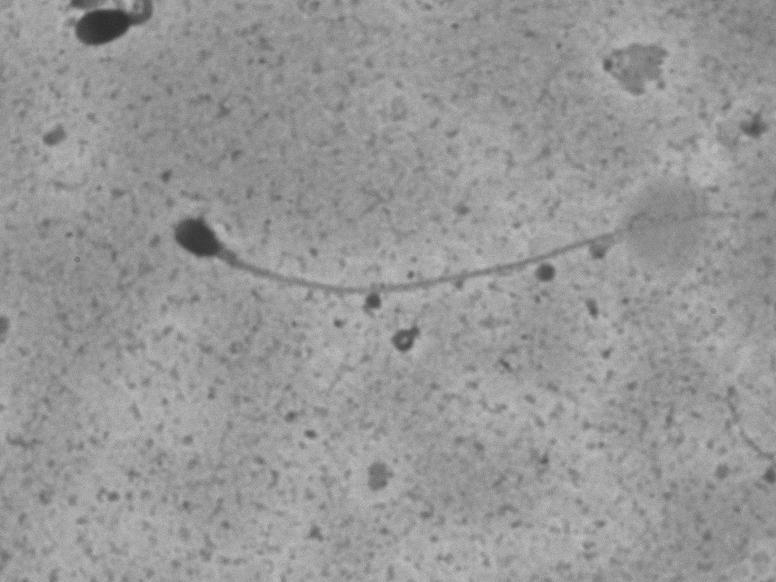Normal: (160, 167, 741, 302)
